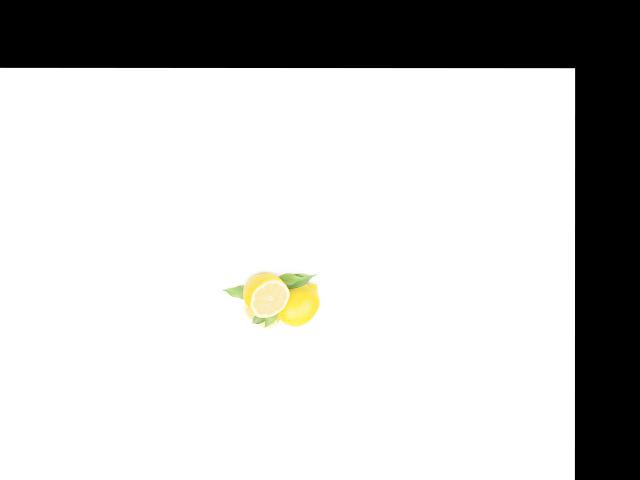lemon: (240, 268, 289, 318)
